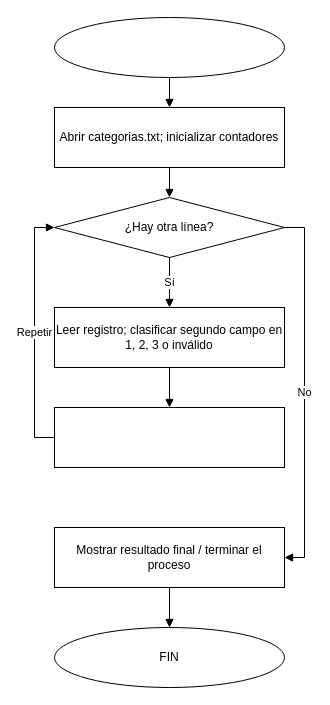
The diagram is 330 pixels wide and 705 high, and some of its shapes have lost their labels. The centre of each missing label's shape, as x and y in pixels:
"INICIO · Ejercicio 71" goes at (x=169, y=47).
"Leer siguiente línea" goes at (x=169, y=437).
